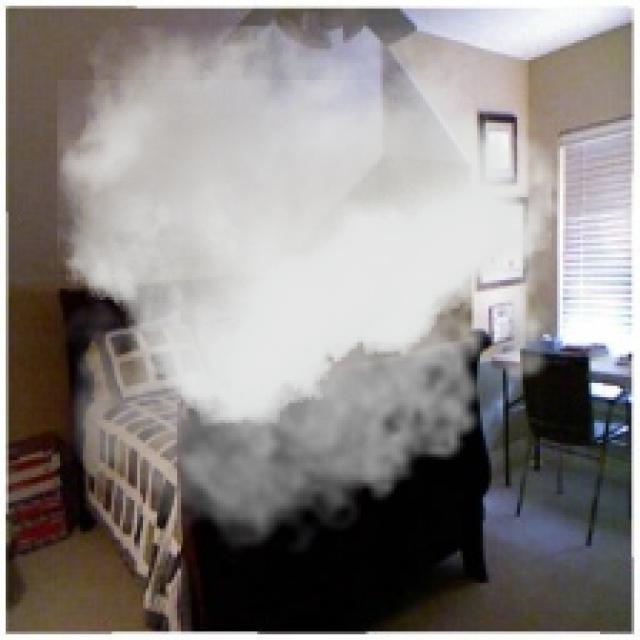smoke: (57, 26, 583, 566)
